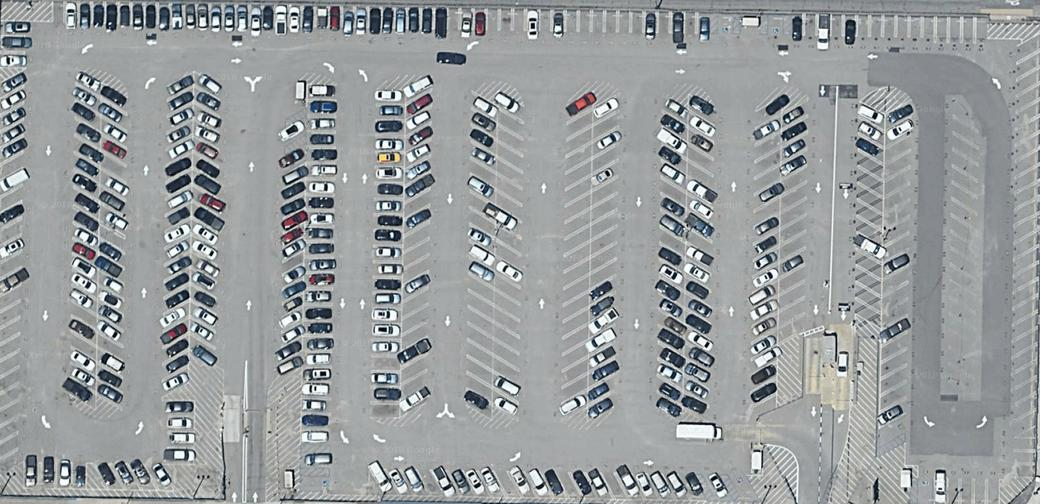parkingspot: (51, 0, 713, 41), (875, 96, 914, 460), (299, 84, 338, 447), (63, 67, 103, 413), (682, 92, 721, 425), (368, 88, 407, 420), (1009, 31, 1040, 442), (399, 73, 435, 420), (462, 88, 499, 423), (491, 89, 527, 423), (95, 81, 131, 411), (159, 70, 195, 399), (365, 467, 709, 501), (587, 91, 622, 425), (655, 97, 691, 421), (559, 92, 594, 424), (749, 99, 784, 423), (0, 65, 27, 475), (945, 112, 983, 399), (188, 70, 223, 368), (777, 95, 811, 349), (852, 100, 887, 332), (277, 142, 307, 379), (791, 13, 990, 47), (91, 461, 174, 492), (917, 477, 1001, 504), (163, 400, 196, 467), (22, 459, 87, 491), (0, 20, 31, 69), (1011, 437, 1038, 479), (727, 472, 762, 503), (701, 472, 734, 503), (280, 115, 307, 150), (299, 475, 333, 494), (299, 453, 331, 470), (716, 13, 735, 37), (767, 15, 785, 37)
